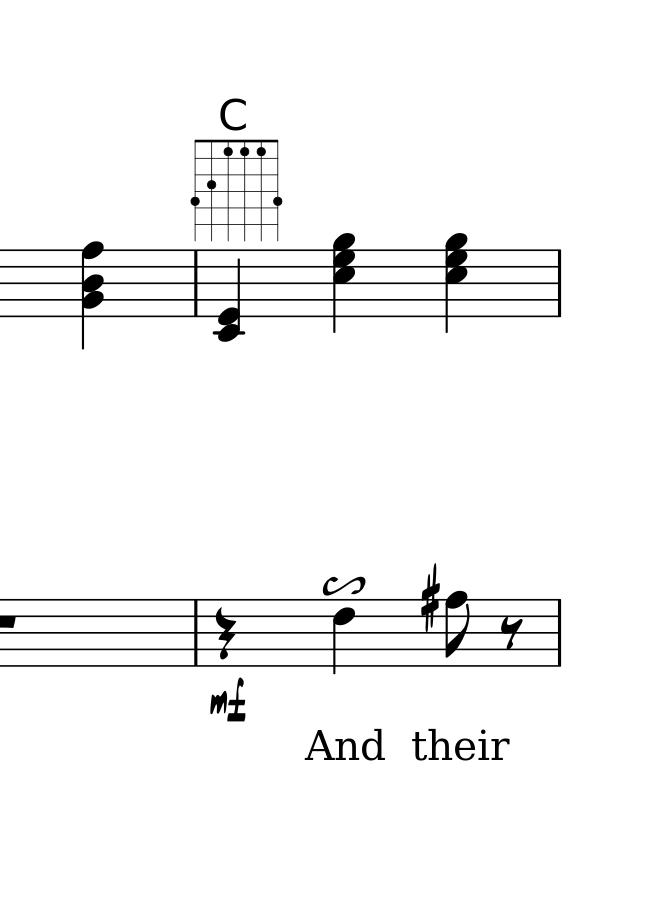4_-2_0: (213, 249, 245, 342)
4_6: (331, 597, 357, 677)
4_th: (77, 239, 106, 347), (328, 231, 357, 334), (441, 233, 469, 331)
8_8: (444, 591, 473, 669)
Fretboard: (188, 137, 288, 245)
Inverted_turn: (318, 574, 368, 598)
Rests4: (213, 607, 234, 660)
Rests8: (497, 615, 527, 649)
Sharp: (417, 561, 441, 636)
Single_barline: (187, 599, 204, 665), (550, 600, 567, 664), (551, 250, 567, 316), (188, 250, 203, 316)
mf: (209, 677, 250, 724)
